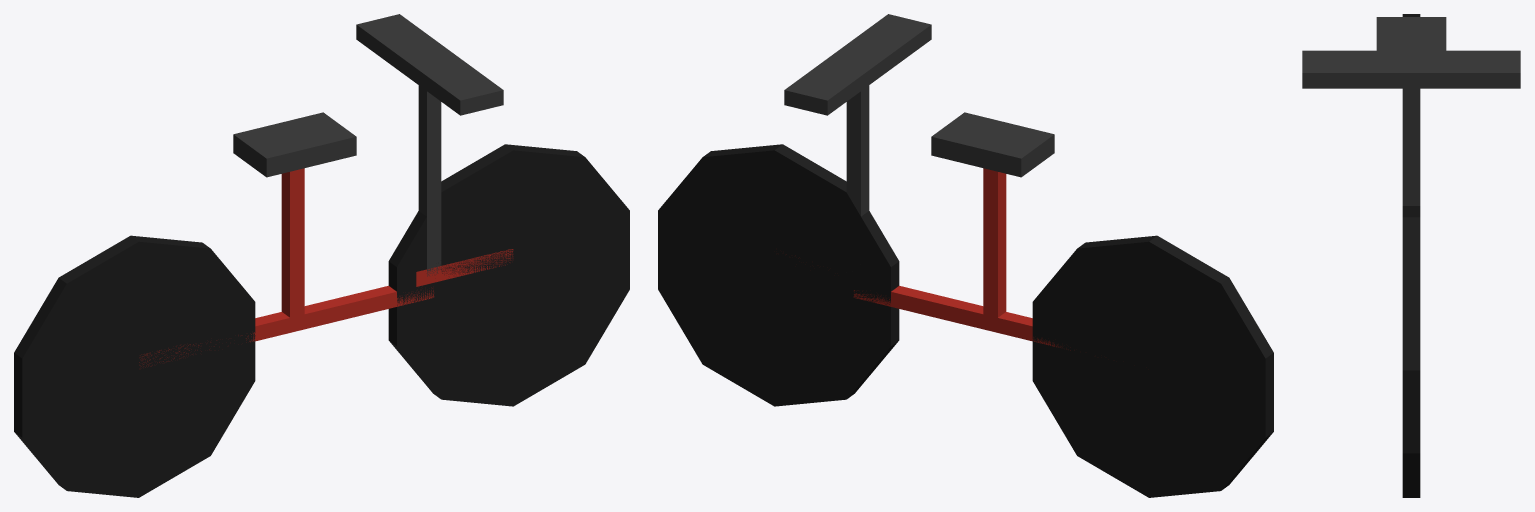
File: bicicleta.glb
3 views of the same model, side by side, from view 1: azimuth 30°, elevation 25°; view 2: azimuth 150°, elevation 25°; view 3: azimuth 270°, elevation 25° (orthographic). The views are drawn at different scales.
Parts seen in each view (by area): view 1: bicicleta; view 2: bicicleta; view 3: bicicleta.
Boxes of the visible parts, <box> form: bicicleta: <box>14,14,629,497</box>; bicicleta: <box>658,14,1273,497</box>; bicicleta: <box>1302,14,1520,497</box>.
Bounding box in the file's own units: 1.69 × 0.97 × 0.5.
